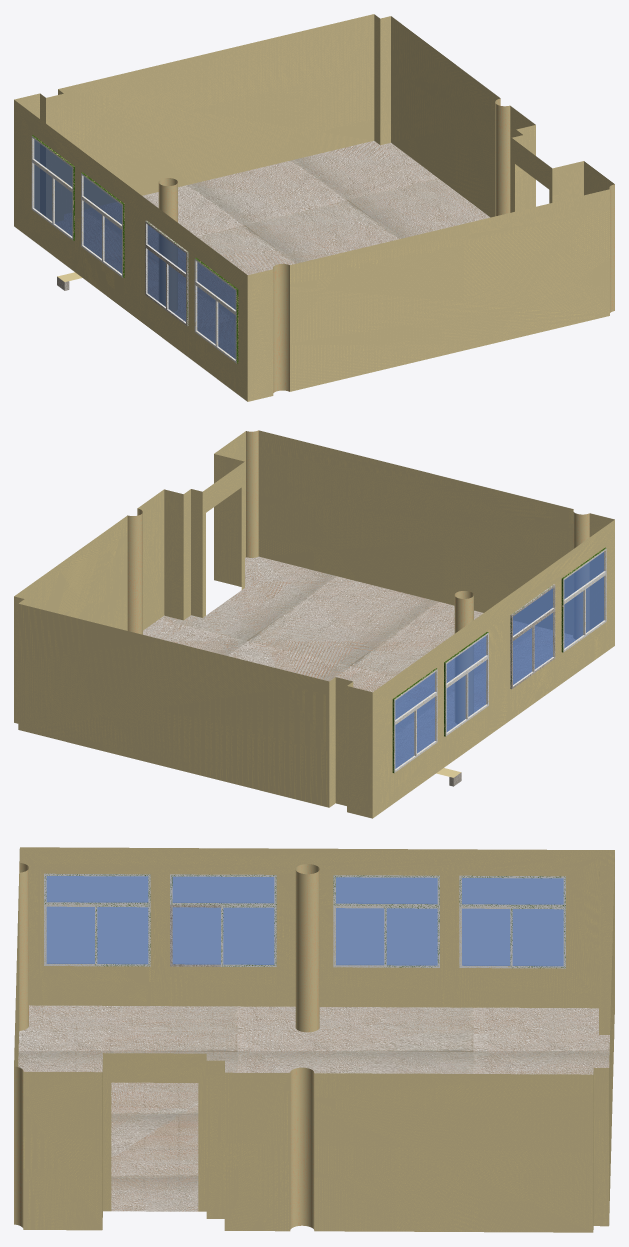
Rendered from AUL019.obj.
3 renders of one model, top to bottom at view 1: azimuth 30°, elevation 25°; view 2: azimuth 150°, elevation 25°; view 3: azimuth 270°, elevation 25°, orthographic. The views are drawn at different scales.
Parts seen in each view (by area): view 1: Mesh25 AUL019 Model, Mesh19 ventana1_1_4 AUL019 Model, Mesh1 ventana1_1_1 AUL019 Model, Mesh7 ventana1_1_2 AUL019 Model, Mesh13 ventana1_1_3 AUL019 Model; view 2: Mesh25 AUL019 Model, Mesh19 ventana1_1_4 AUL019 Model, Mesh7 ventana1_1_2 AUL019 Model, Mesh1 ventana1_1_1 AUL019 Model, Mesh13 ventana1_1_3 AUL019 Model; view 3: Mesh25 AUL019 Model, Mesh13 ventana1_1_3 AUL019 Model, Mesh1 ventana1_1_1 AUL019 Model, Mesh7 ventana1_1_2 AUL019 Model, Mesh19 ventana1_1_4 AUL019 Model.
Boxes of the visible parts, <box> form: Mesh25 AUL019 Model: <box>14,14,614,401</box>; Mesh19 ventana1_1_4 AUL019 Model: <box>194,258,238,363</box>; Mesh1 ventana1_1_1 AUL019 Model: <box>145,220,188,326</box>; Mesh7 ventana1_1_2 AUL019 Model: <box>31,135,74,240</box>; Mesh13 ventana1_1_3 AUL019 Model: <box>81,172,124,277</box>; Mesh25 AUL019 Model: <box>14,430,614,818</box>; Mesh19 ventana1_1_4 AUL019 Model: <box>561,547,606,652</box>; Mesh7 ventana1_1_2 AUL019 Model: <box>392,668,437,772</box>; Mesh1 ventana1_1_1 AUL019 Model: <box>510,584,555,688</box>; Mesh13 ventana1_1_3 AUL019 Model: <box>444,631,488,736</box>; Mesh25 AUL019 Model: <box>14,847,614,1232</box>; Mesh13 ventana1_1_3 AUL019 Model: <box>333,875,439,967</box>; Mesh1 ventana1_1_1 AUL019 Model: <box>170,874,276,966</box>; Mesh7 ventana1_1_2 AUL019 Model: <box>459,875,565,968</box>; Mesh19 ventana1_1_4 AUL019 Model: <box>44,873,150,966</box>.
Bounding box in the file's own units: 11.53 × 3.85 × 12.4.
9 materials, 2 textured.
